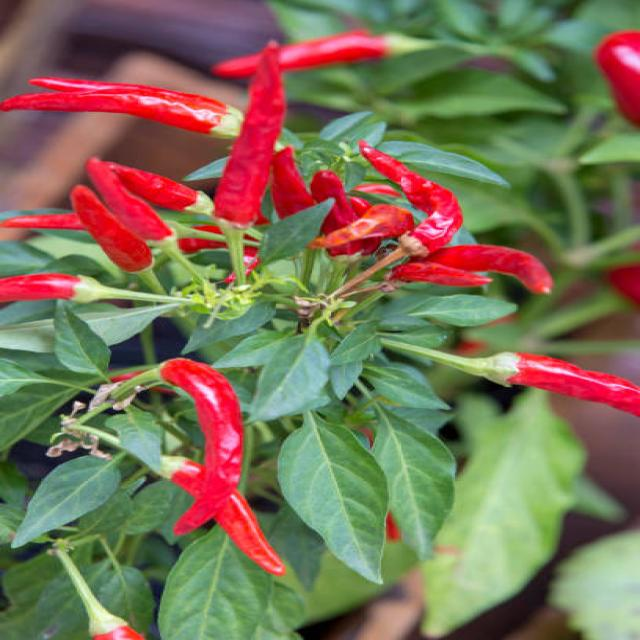Ripe: (0, 77, 240, 137), (160, 359, 242, 533), (175, 461, 284, 575), (216, 44, 284, 226), (361, 141, 461, 256), (500, 353, 638, 416), (88, 159, 171, 241), (72, 186, 151, 271), (430, 245, 551, 293), (100, 162, 204, 210), (311, 205, 413, 249), (389, 262, 491, 285), (0, 274, 80, 302)
